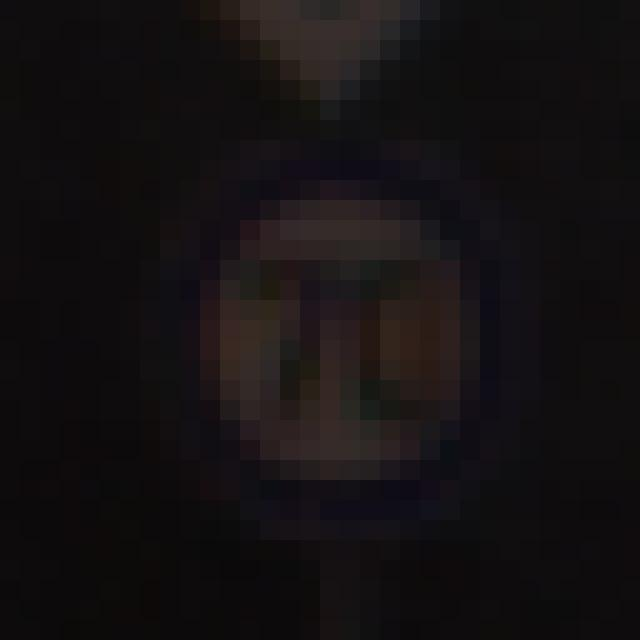SPEED LIMIT 70: (192, 161, 530, 528)
